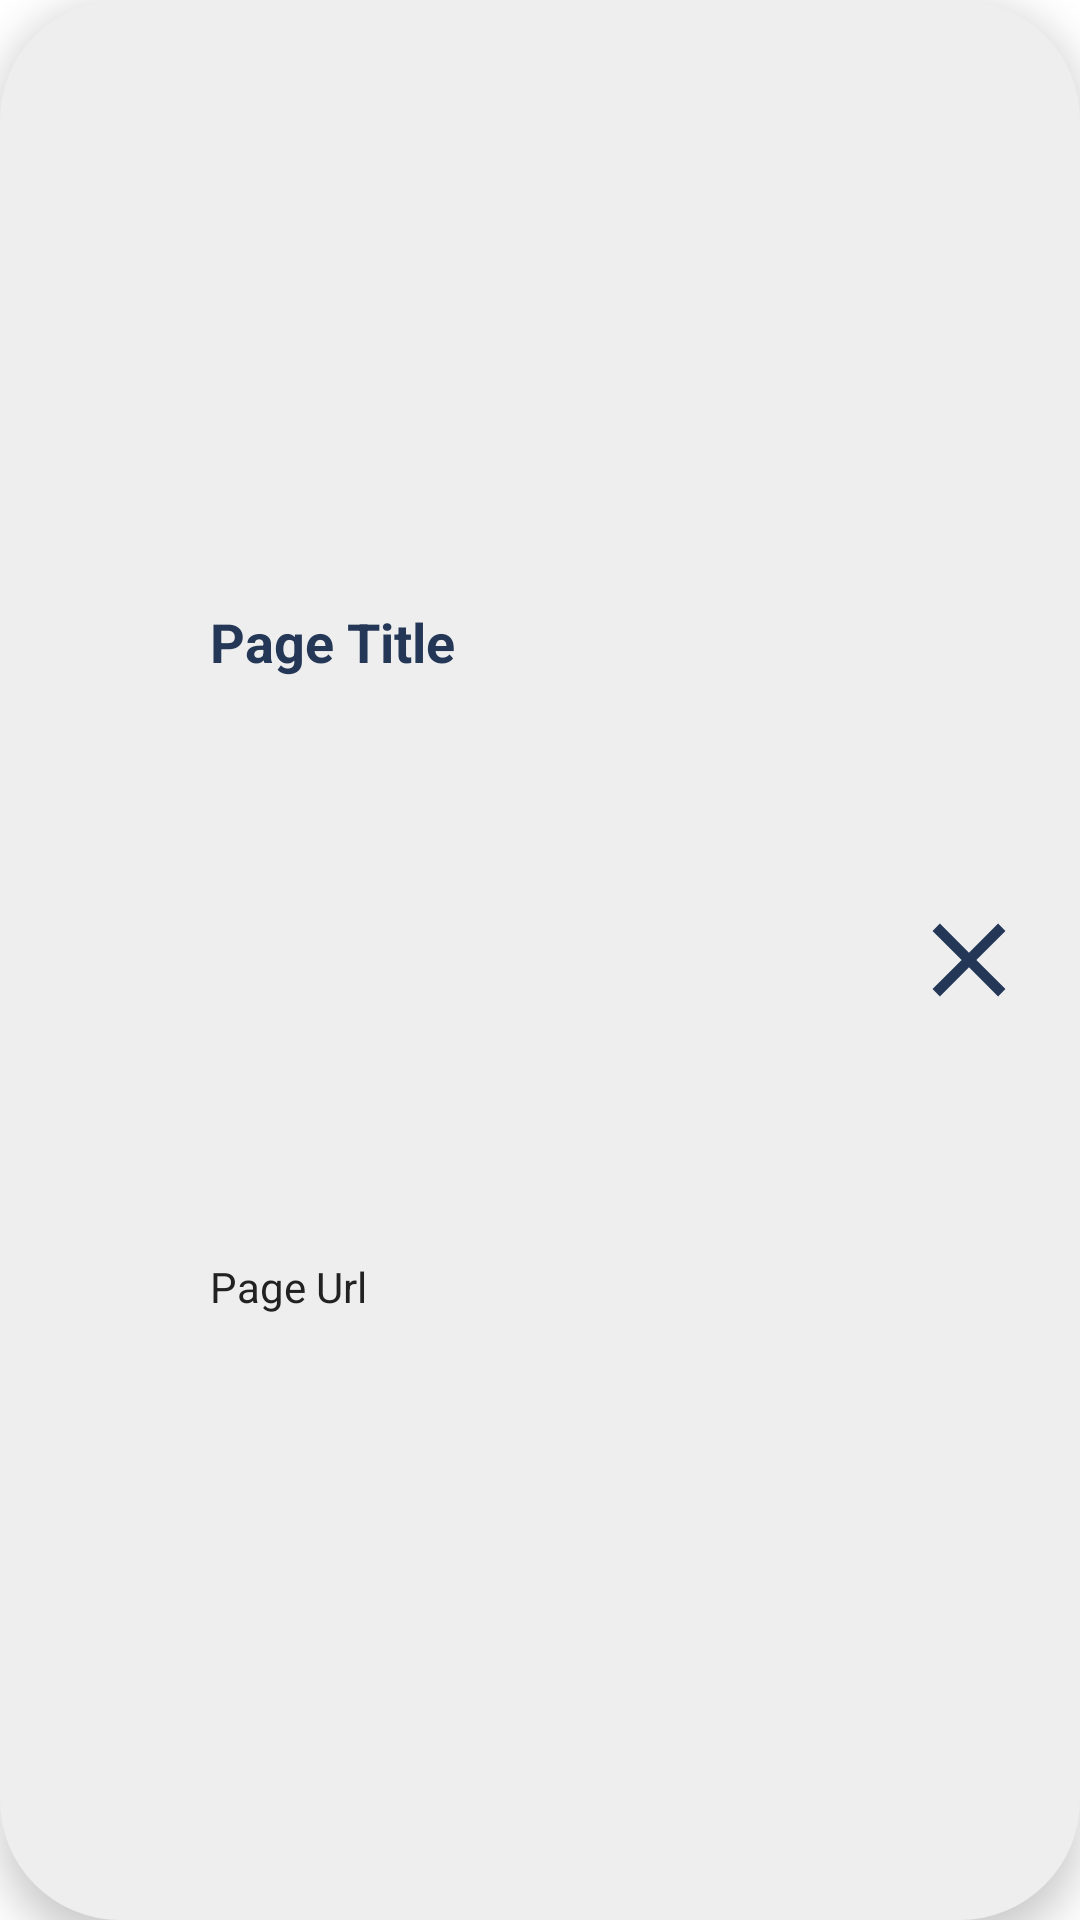

Named icons in this screenshot (1080 × 1920) and their bounding boxes, (x1, y1, x2, y2):
Remove Tab: (933, 923, 1005, 997)
